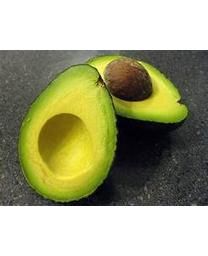avocado: (17, 63, 119, 203), (84, 56, 189, 134)
